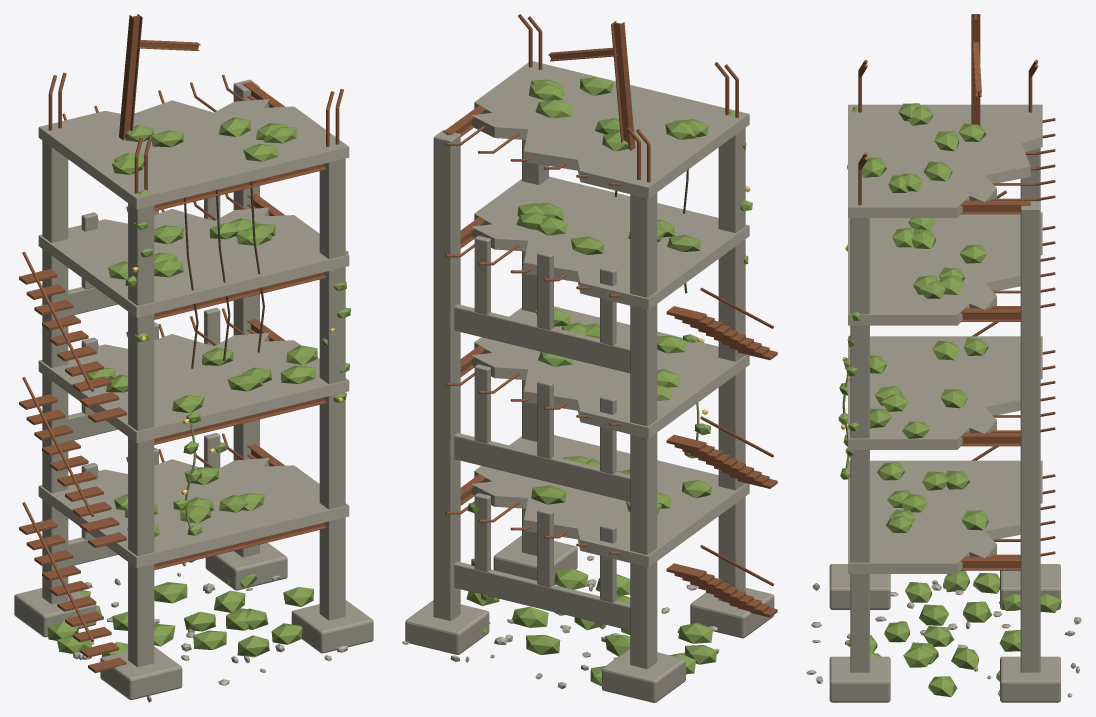
The model's file is Ruined_Concrete_Tower_Golden.glb.
3 renders of one model, left to right at view 1: azimuth 30°, elevation 25°; view 2: azimuth 150°, elevation 25°; view 3: azimuth 270°, elevation 25°, orthographic. The views are drawn at different scales.
Visible parts, largest first — view 1: Structure, Growth; view 2: Structure, Growth; view 3: Structure, Growth.
Part boxes in pixels (bbox=[...]): Structure: bbox=[14, 14, 373, 702]; Growth: bbox=[47, 117, 350, 657]; Structure: bbox=[402, 14, 777, 702]; Growth: bbox=[466, 77, 752, 686]; Structure: bbox=[806, 14, 1081, 702]; Growth: bbox=[838, 103, 1061, 697].
Size of the model in its own units: 9.9 by 22.11 by 9.04.
